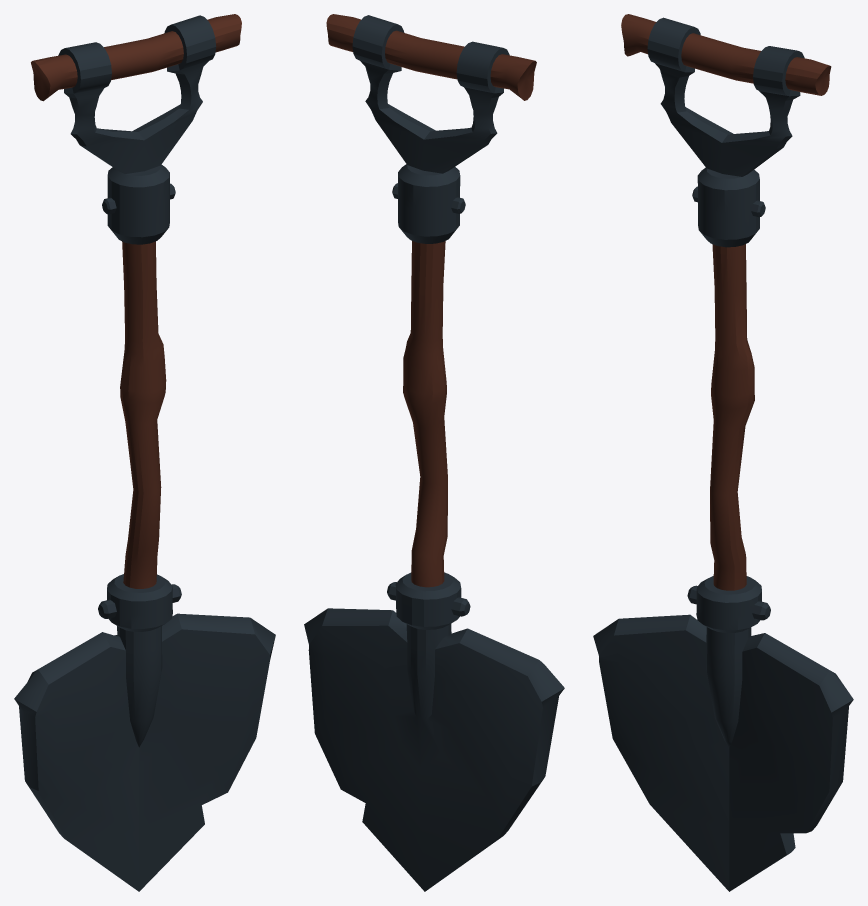
The model's file is shovel.fbx.
3 renders of one model, left to right at view 1: azimuth 30°, elevation 25°; view 2: azimuth 150°, elevation 25°; view 3: azimuth 330°, elevation 25°, orthographic.
Visible parts, largest first — view 1: Shovel; view 2: Shovel; view 3: Shovel.
Boxes of the visible parts, x1=… form: Shovel: x1=14, y1=14, x2=275, y2=891; Shovel: x1=304, y1=14, x2=564, y2=891; Shovel: x1=593, y1=14, x2=853, y2=891.
Bounding box in the file's own units: 41.58 × 130 × 9.09.
